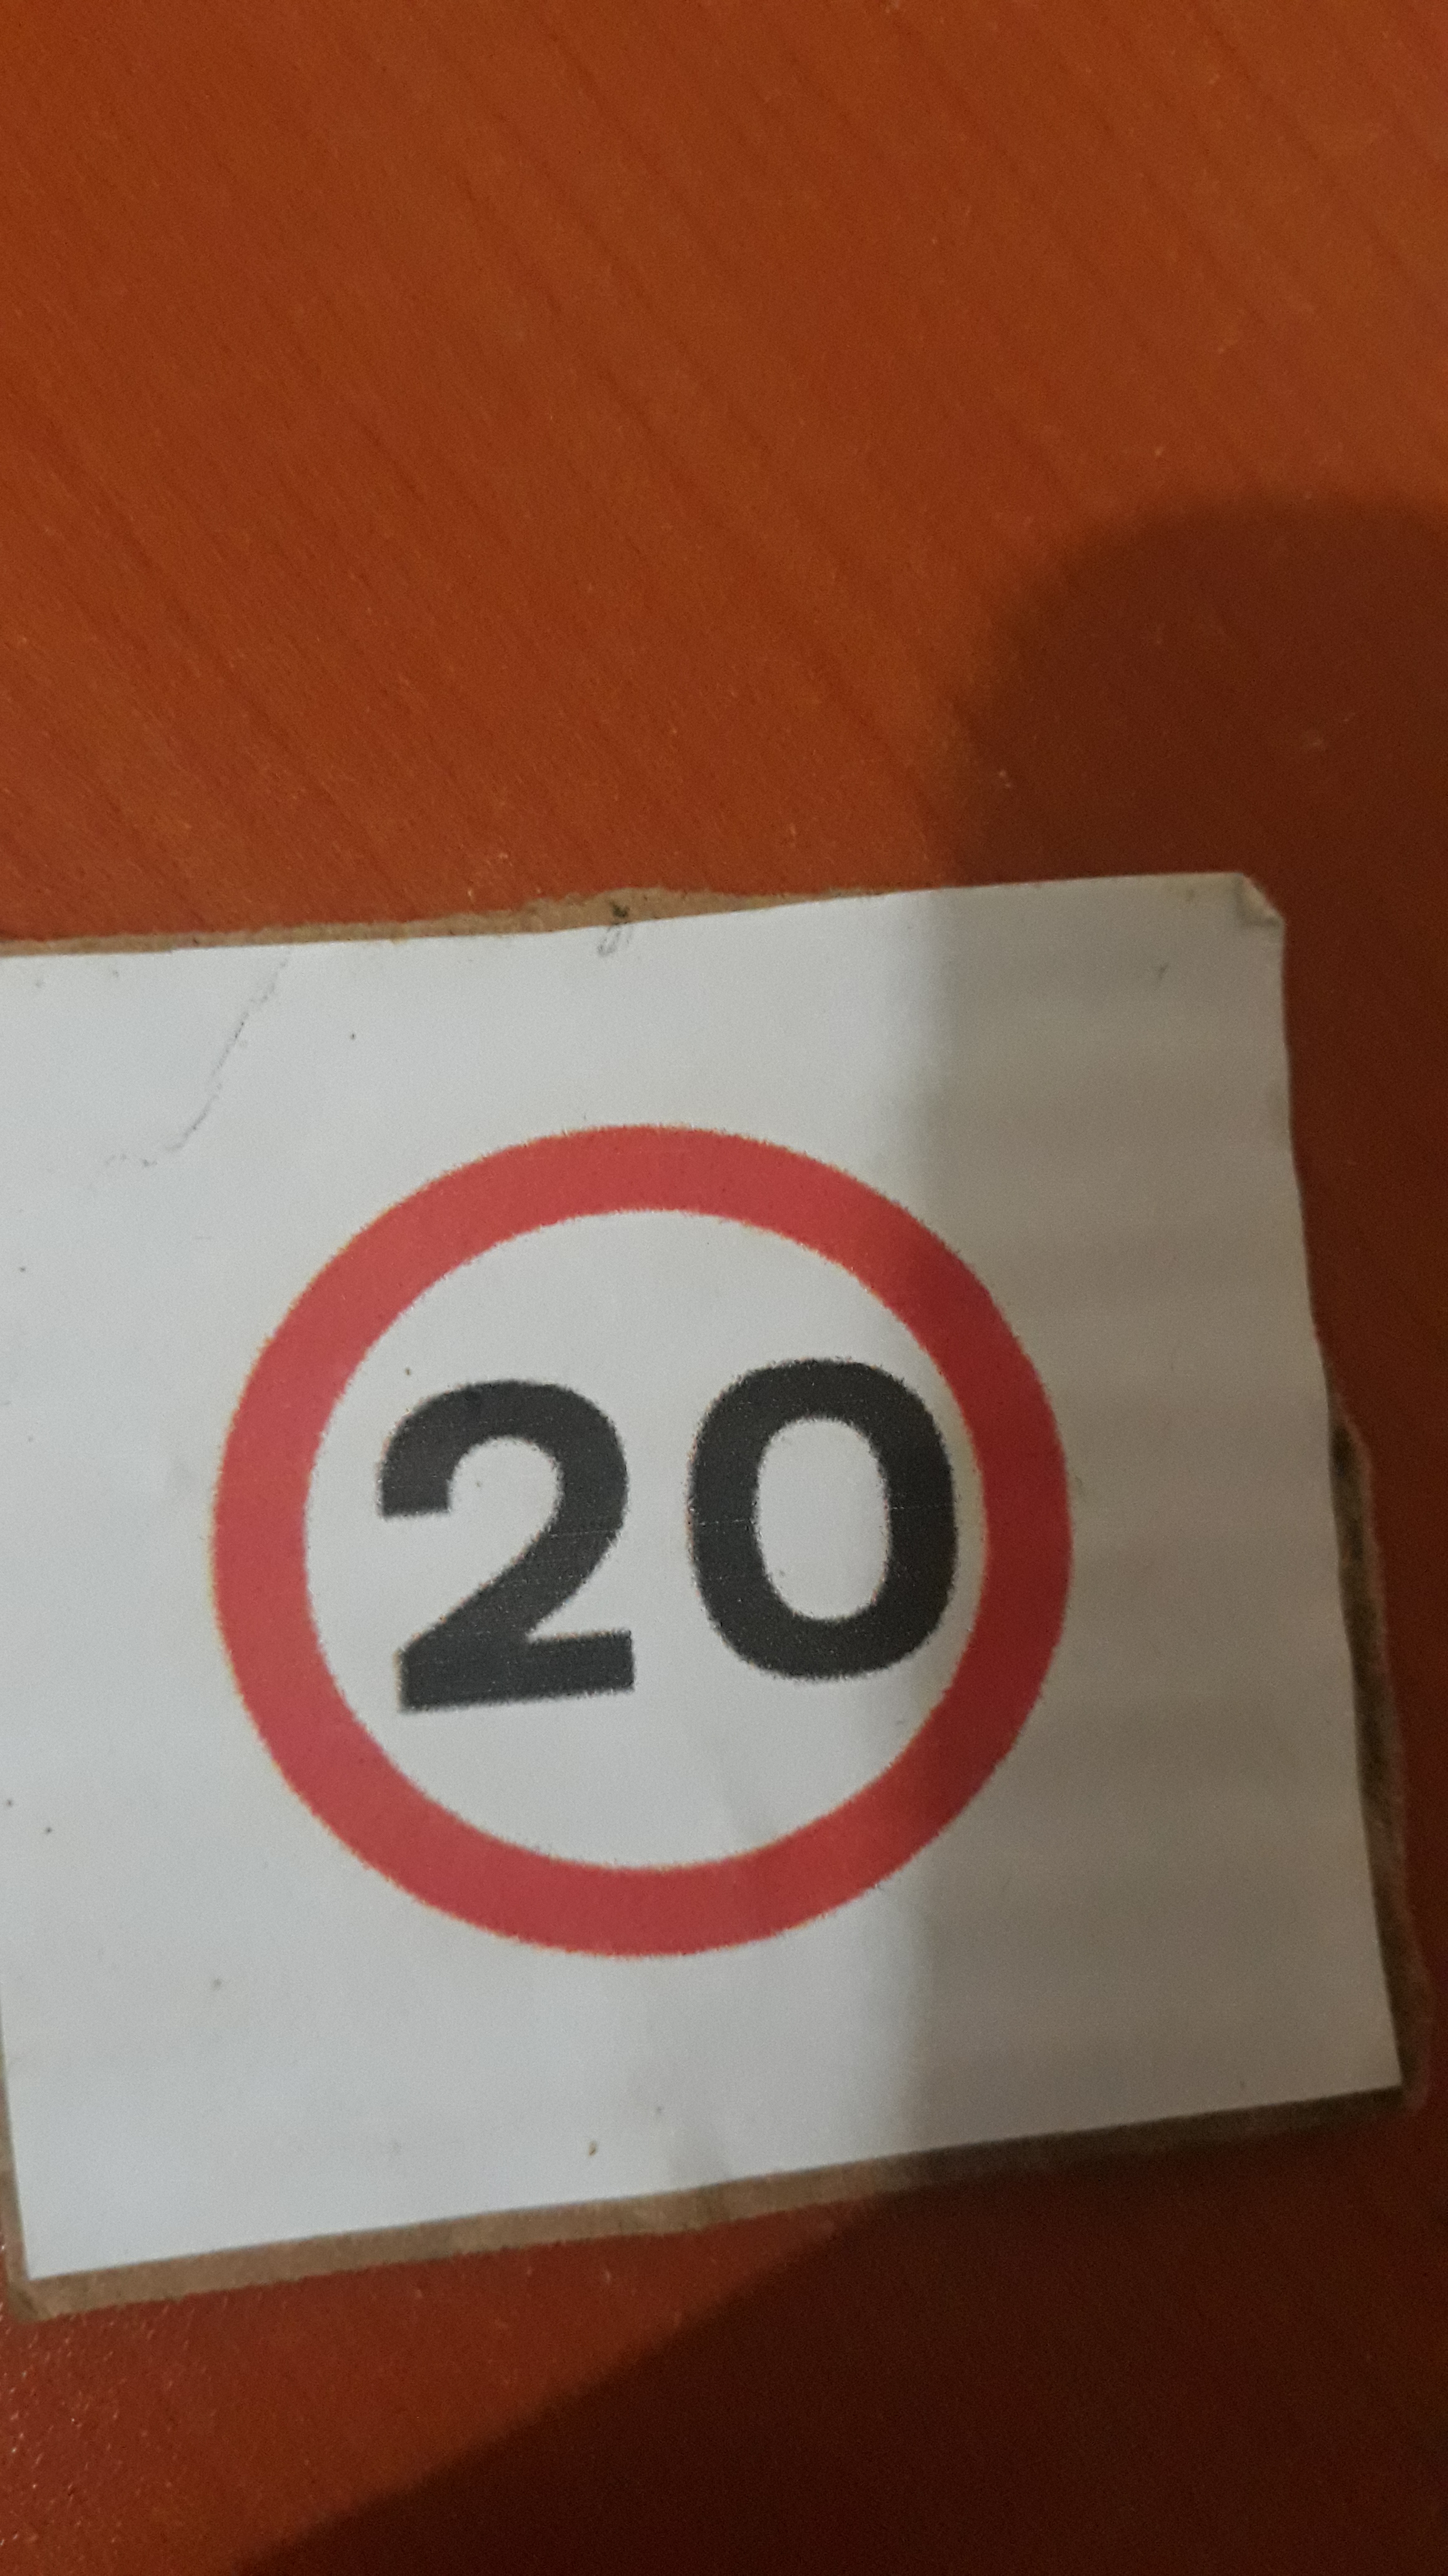20 kph: (154, 1093, 1106, 2013)
